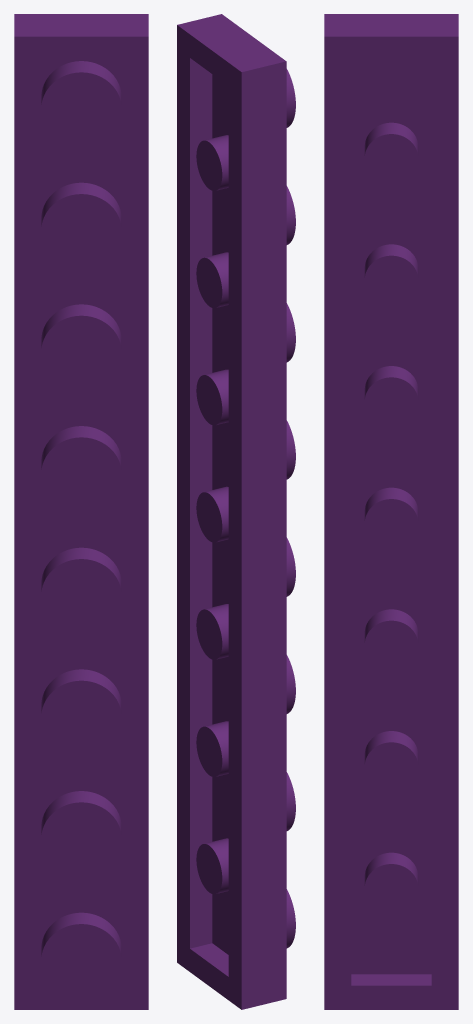
File: plate1*8_medium_lavender.obj
3 views of the same model, side by side, from view 1: azimuth 90°, elevation 25°; view 2: azimuth 210°, elevation 25°; view 3: azimuth 270°, elevation 25° (orthographic). The views are drawn at different scales.
Bounding box in the file's own units: 12 × 160 × 20.
